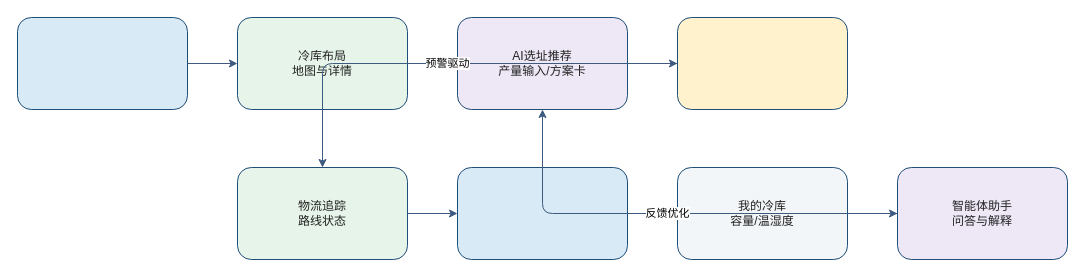
Some shapes in this 1085 by 277 pixel diagram are drawn without their labels. Here are the shapes that lost their labels. From the top down, the box of each, then its label:
(16, 16, 188, 110): 首页仪表盘 KPI与入口
(676, 16, 848, 110): 气象预警 温度链建议
(456, 166, 628, 260): 扫码入库 批次登记
